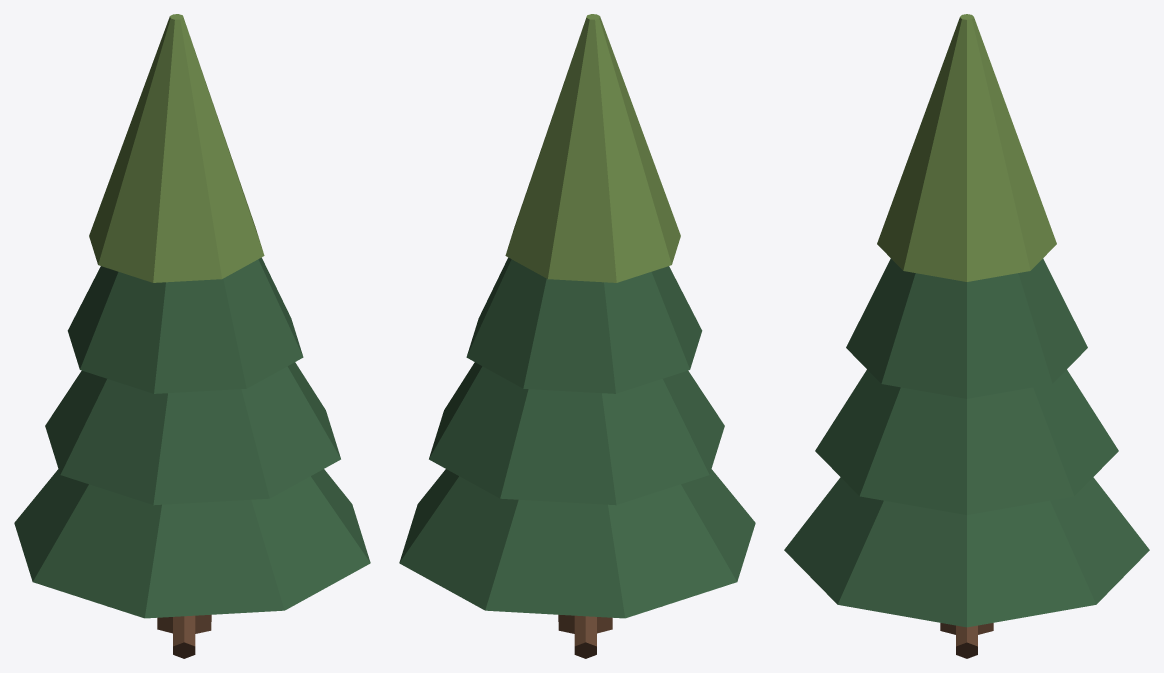
File: Pine_B.fbx
The picture shows the model from 3 angles, left to right: view 1: azimuth 30°, elevation 25°; view 2: azimuth 150°, elevation 25°; view 3: azimuth 270°, elevation 25°; orthographic projection.
Parts seen in each view (by area): view 1: Pine_B; view 2: Pine_B; view 3: Pine_B.
Part boxes in pixels (bbox=[...]): Pine_B: bbox=[14, 14, 370, 658]; Pine_B: bbox=[399, 14, 755, 658]; Pine_B: bbox=[784, 14, 1149, 658].
Bounding box in the file's own units: 1.46 × 2.66 × 1.46.
1 material, 1 textured.
